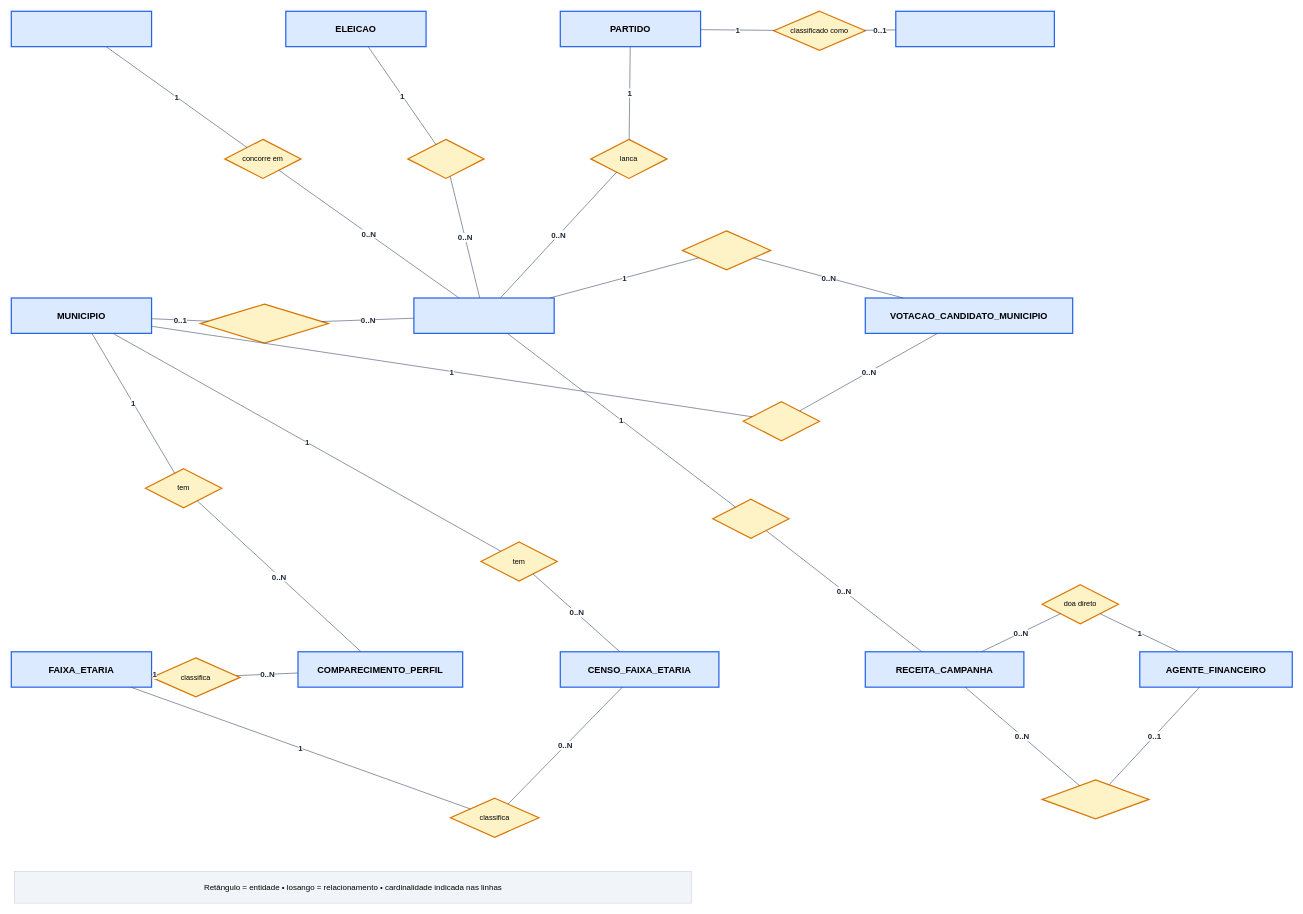
Some shapes in this 1303 by 914 pixel diagram are drawn without their labels. The shapes that lost their labels are listed below. From the top down, each one's box as (x1, y1, x2, y2) in pixels, then its label:
(10, 10, 152, 47): POLITICO
(895, 10, 1055, 47): ESPECTRO_PARTIDO
(407, 138, 484, 179): contem
(681, 230, 771, 270): recebe votos
(199, 303, 329, 343): sedia (so eleicao municipal)
(413, 297, 554, 334): CANDIDATURA
(742, 401, 820, 441): apura
(712, 498, 789, 539): arrecada
(1041, 779, 1149, 819): origina via partido
